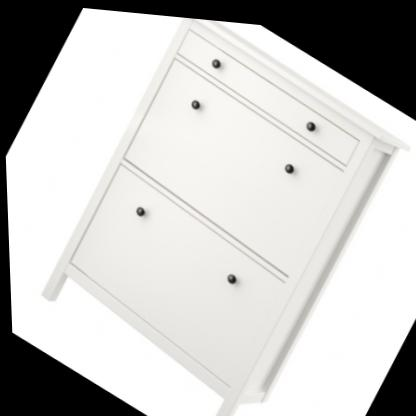Cabinet: (2, 0, 416, 416)
